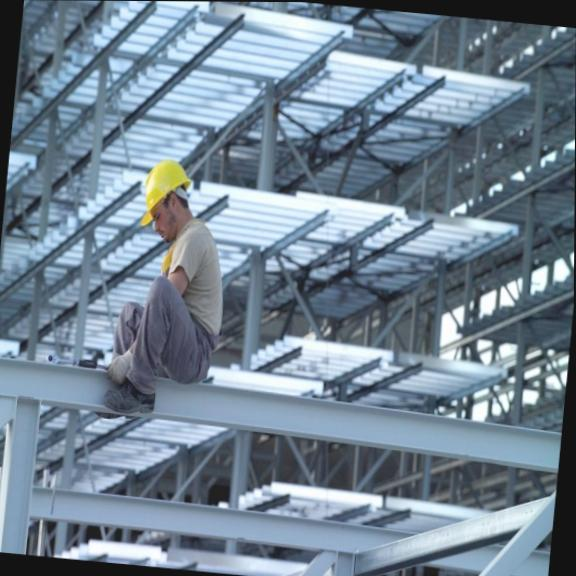no_safety_vest: (145, 217, 231, 342)
